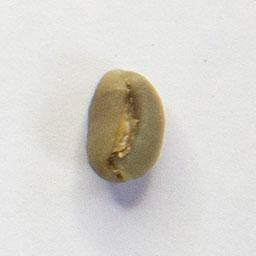peaberry: (84, 66, 169, 186)
